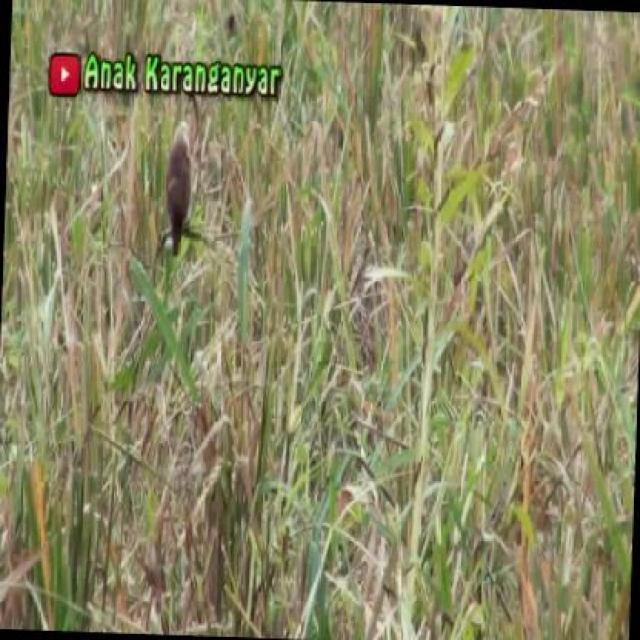Bird: (132, 106, 233, 290)
